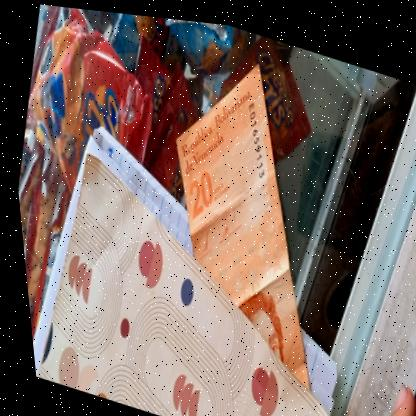twenty-front-vef: (120, 29, 370, 392)
